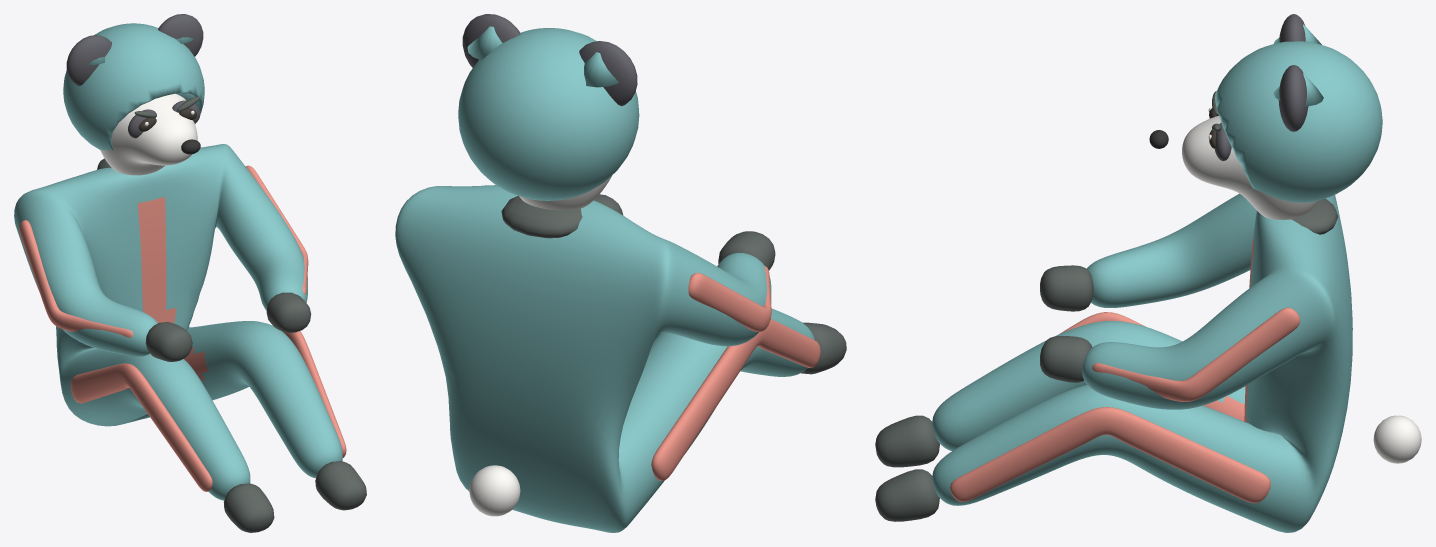
File: Panda.fbx
3 renders of one model, left to right at view 1: azimuth 30°, elevation 25°; view 2: azimuth 150°, elevation 25°; view 3: azimuth 270°, elevation 25°, orthographic. The views are drawn at different scales.
Parts seen in each view (by area): view 1: Pilot_panda; view 2: Pilot_panda; view 3: Pilot_panda.
Part boxes in pixels (x1,y1,x2,y2): Pilot_panda: (14,14,366,532); Pilot_panda: (395,14,846,532); Pilot_panda: (875,14,1421,532).
Bounding box in the file's own units: 0.7324 × 1.07 × 1.13.
